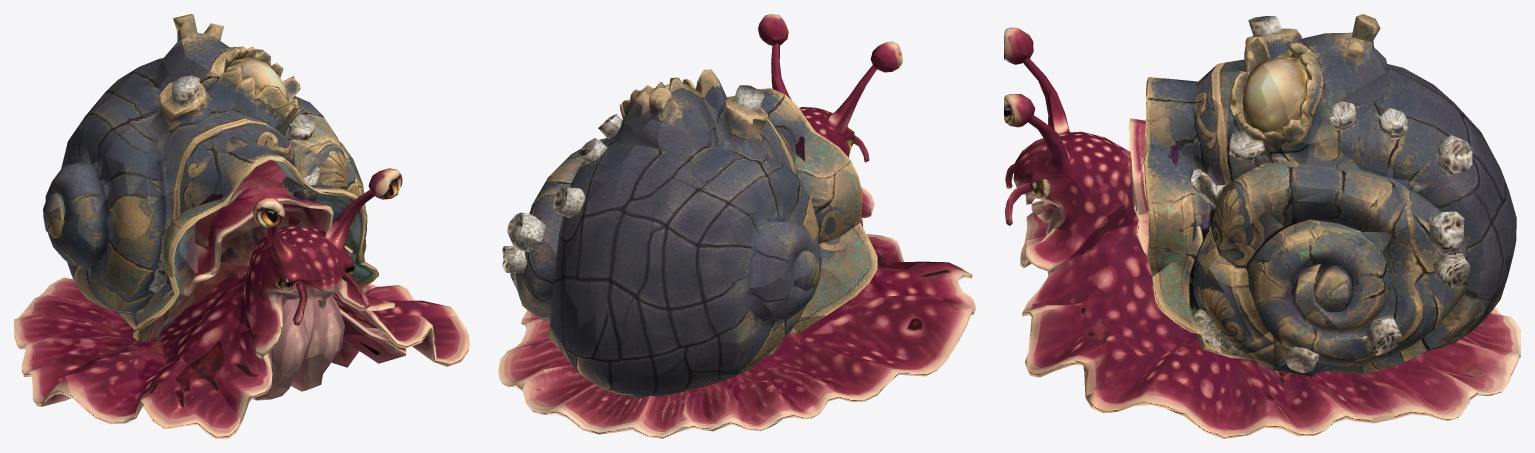
The model's file is boss_snail_textured_meshy.glb.
3 renders of one model, left to right at view 1: azimuth 30°, elevation 25°; view 2: azimuth 150°, elevation 25°; view 3: azimuth 270°, elevation 25°, orthographic. The views are drawn at different scales.
Bounding box in the file's own units: 1.97 × 1.44 × 2.
1 material, 1 textured.
